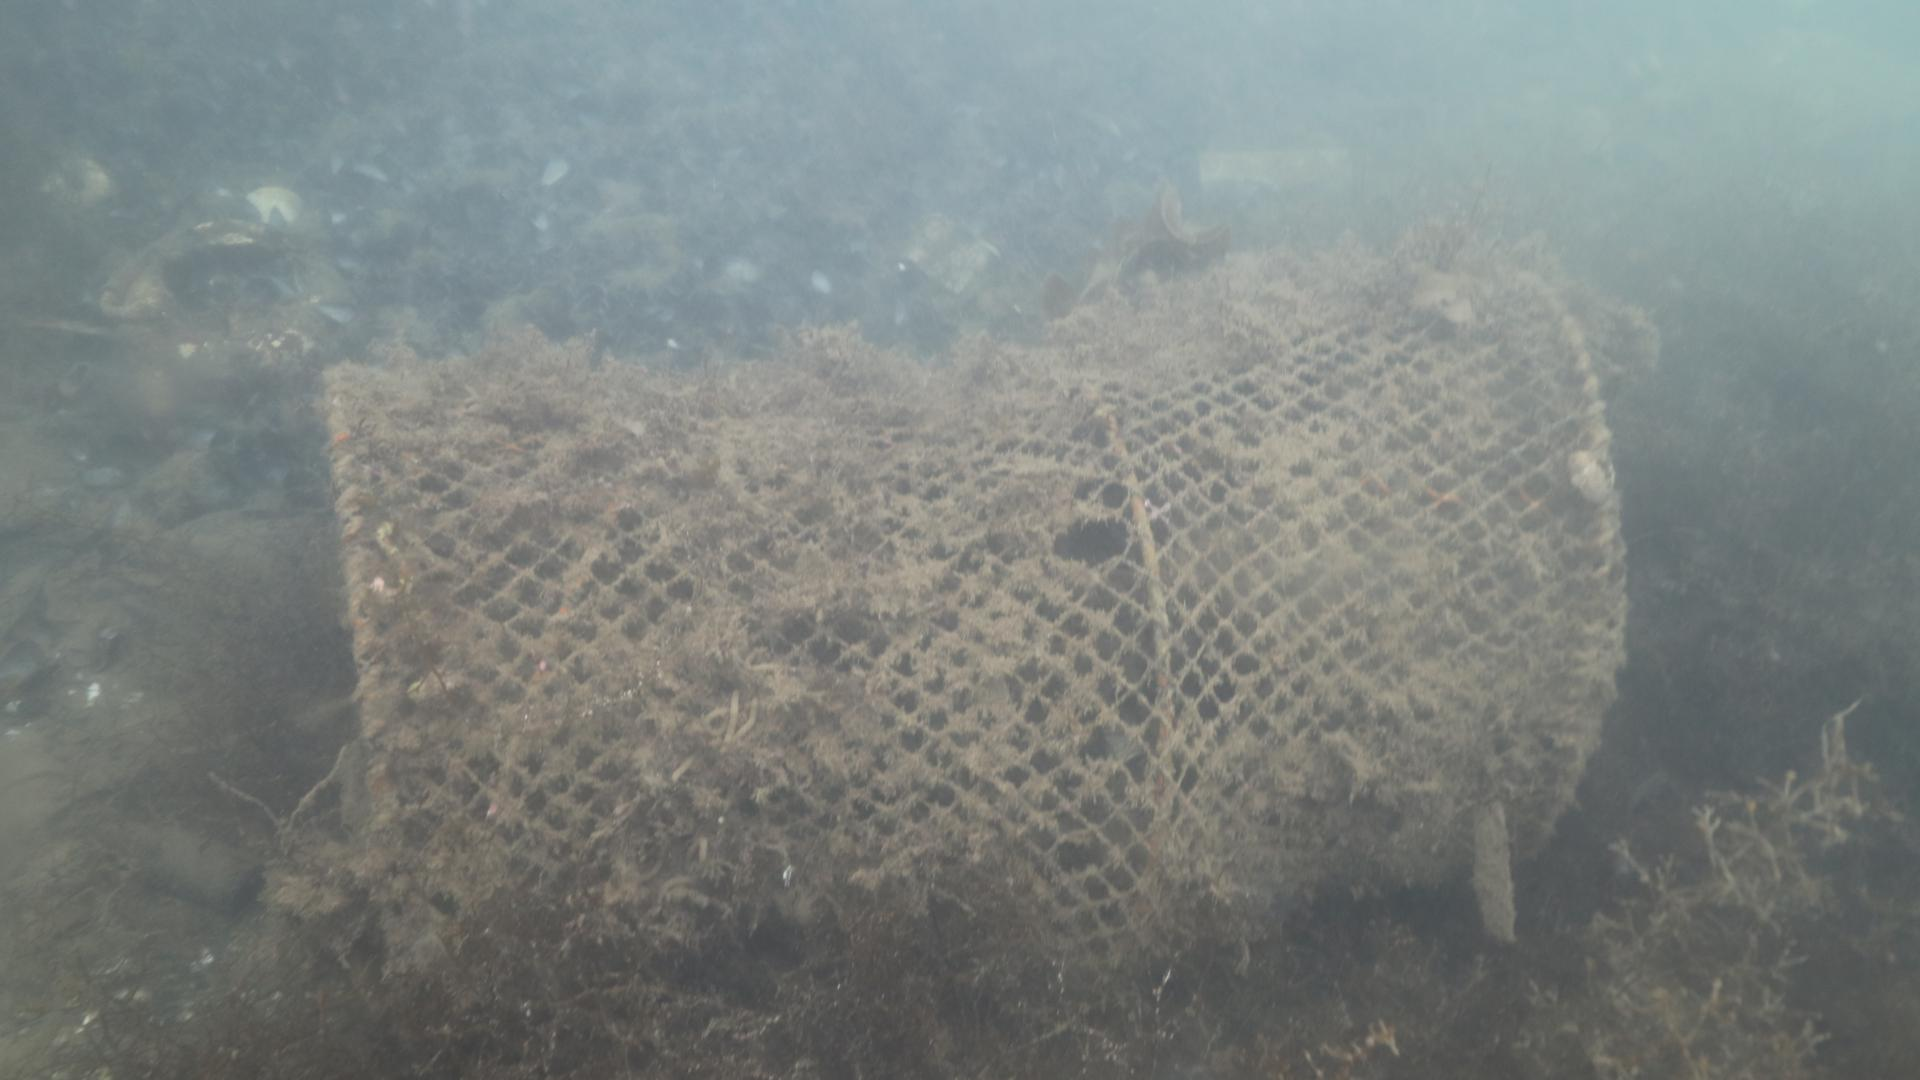spring fish trap: (316, 247, 1619, 982)
